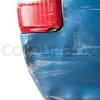rear-bumper-dent: (2, 0, 99, 99)
